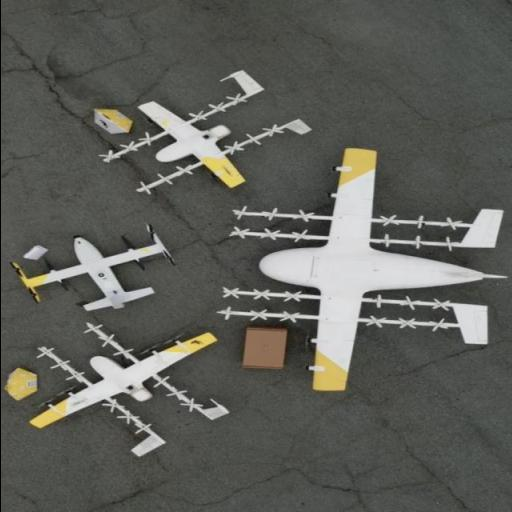uav: (220, 149, 508, 397)
